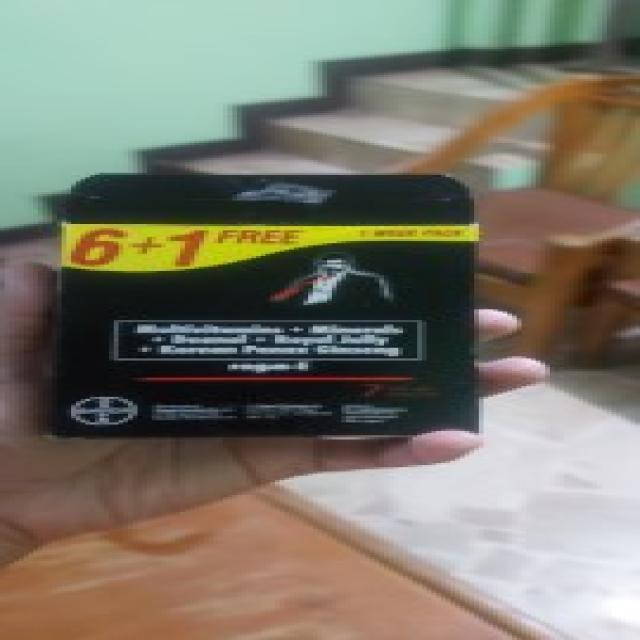Cacat: (55, 173, 479, 438)
